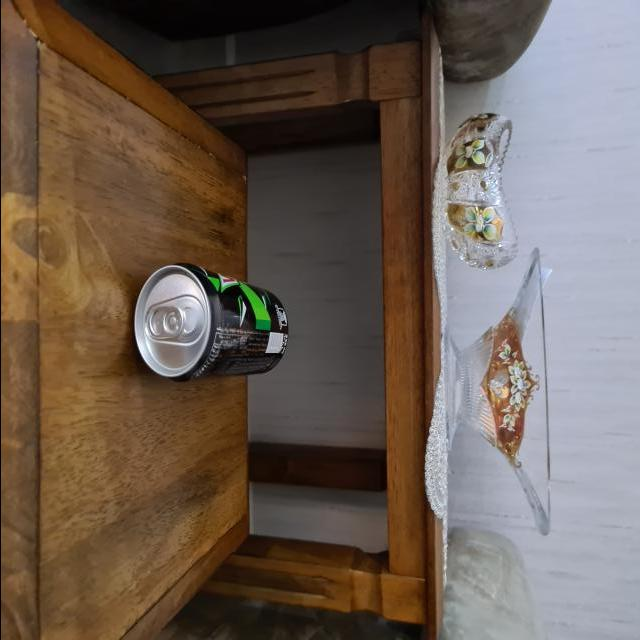can: (133, 260, 294, 380)
